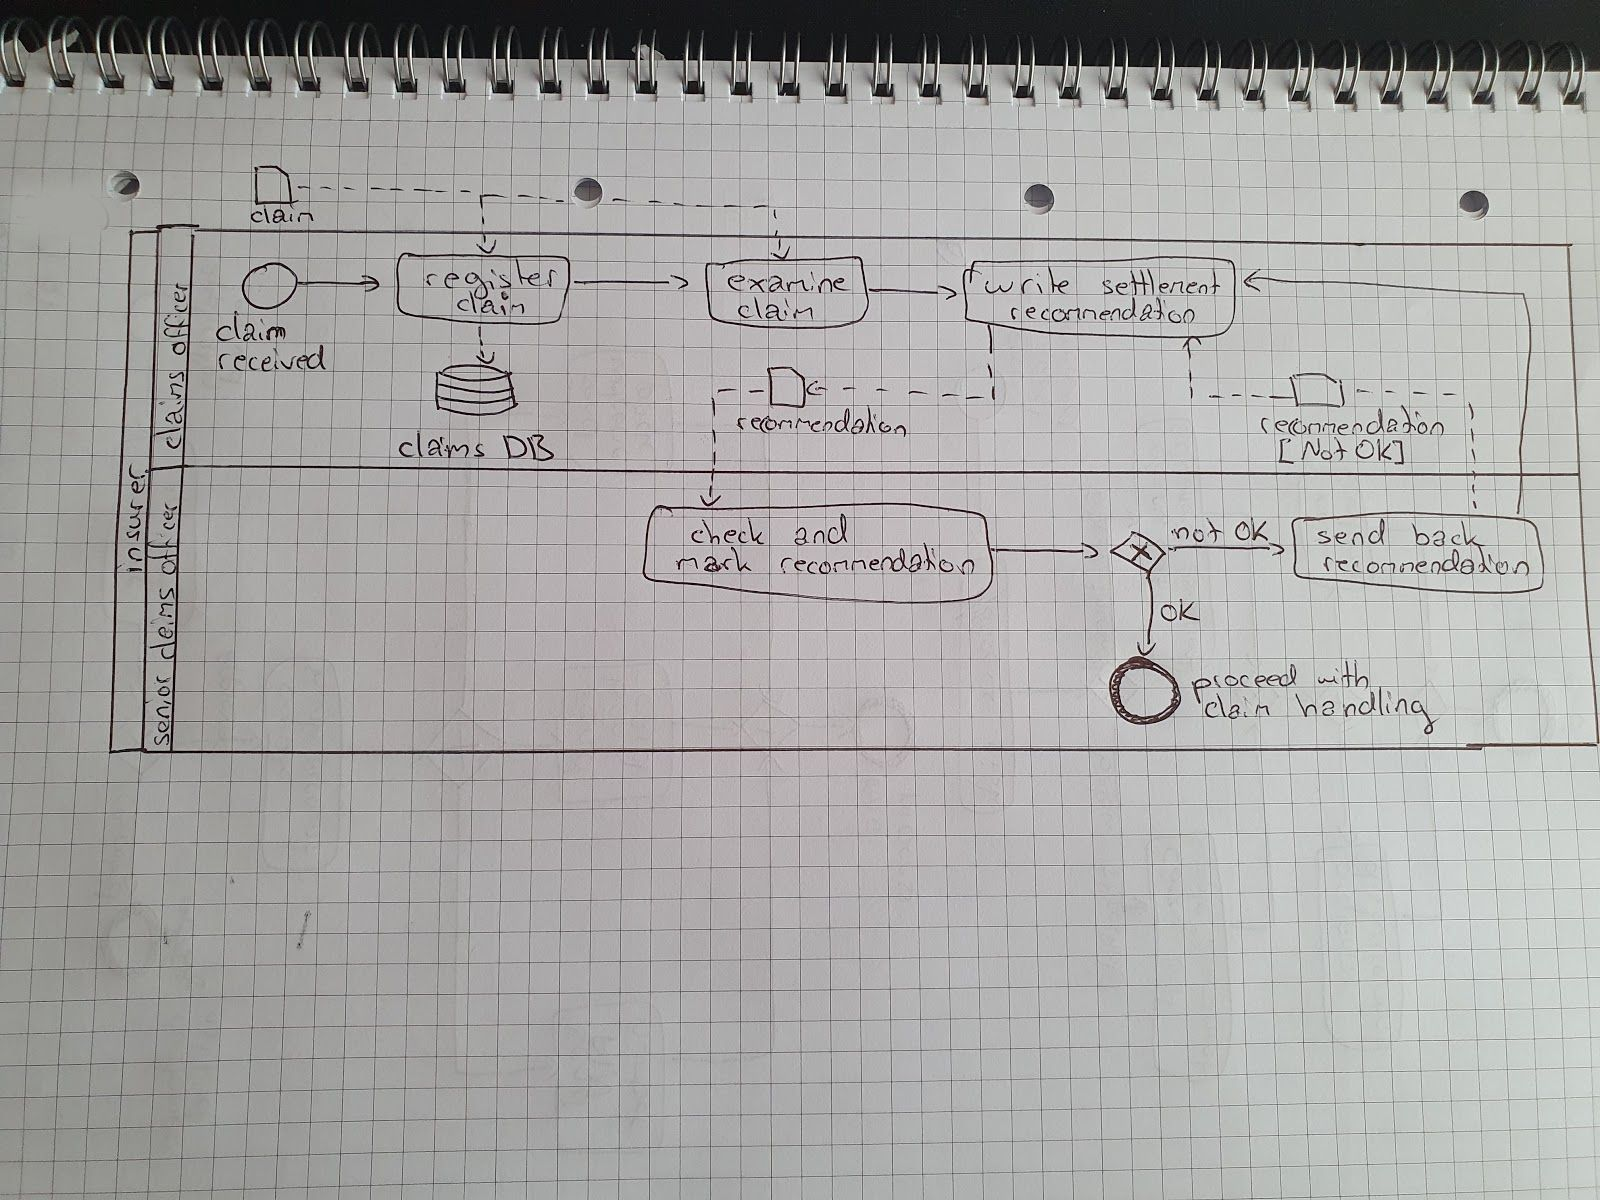DB: (495, 427, 562, 466)
OK: (1154, 592, 1206, 630), (1230, 512, 1274, 550)
OK]: (1351, 435, 1410, 469)
[Not: (1271, 432, 1354, 469)
and: (787, 509, 855, 555)
back: (1405, 516, 1490, 553)
check: (685, 512, 774, 550)
claim: (209, 305, 292, 349), (729, 292, 821, 325), (1196, 689, 1277, 726), (451, 285, 530, 320), (244, 198, 323, 229)
claims: (391, 424, 493, 465), (147, 364, 193, 455), (144, 582, 184, 667)
examine: (721, 267, 858, 299)
handling: (1288, 681, 1444, 741)
insurer: (110, 458, 152, 579)
mark: (669, 539, 760, 579)
not: (1165, 512, 1231, 550)
officer: (141, 497, 186, 581), (159, 274, 195, 362)
proceed: (1186, 659, 1303, 708)
received: (213, 339, 331, 379)
recommendation: (775, 537, 981, 584), (1317, 539, 1537, 582), (1252, 400, 1453, 442), (731, 400, 913, 442), (1004, 290, 1204, 329)
register: (417, 255, 566, 308)
send: (1311, 514, 1393, 555)
senior: (146, 669, 176, 753)
settlement: (1094, 263, 1228, 303)
with: (1311, 655, 1374, 695)
write: (978, 260, 1077, 303)
